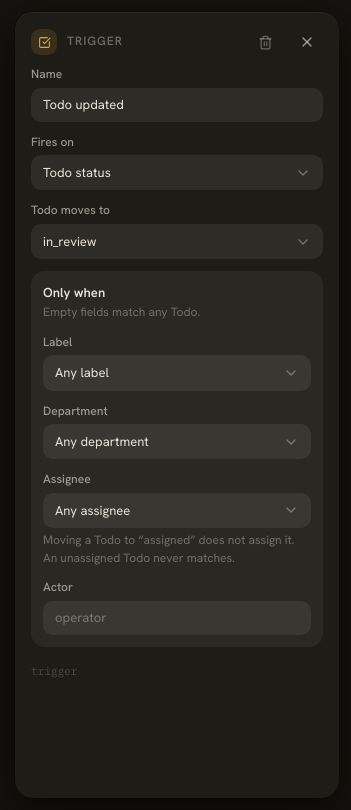
it: todo trigger filters › writes a selected filter as a plain string
Click the dropdown labelled "department".
click(102, 442)  # box [43, 424, 311, 459]
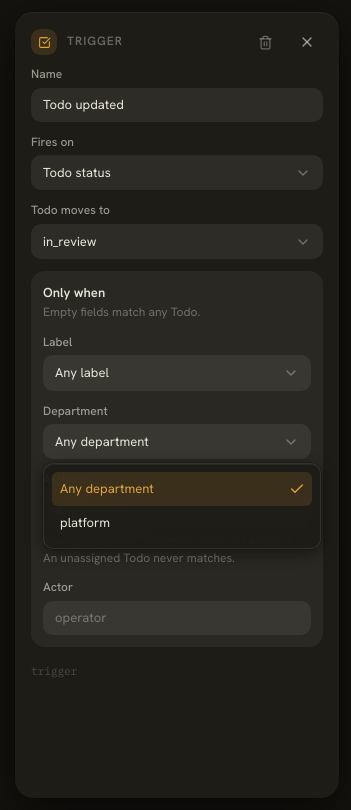
Click the option "platform".
click(85, 523)  # box [60, 514, 110, 531]
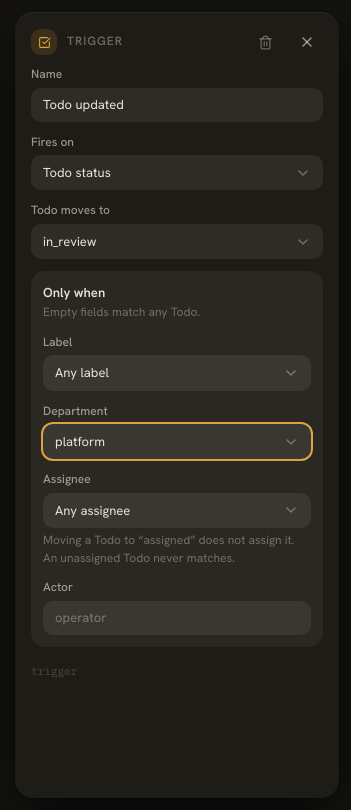
Check: the text "platform" is shown, box [55, 432, 105, 451]
